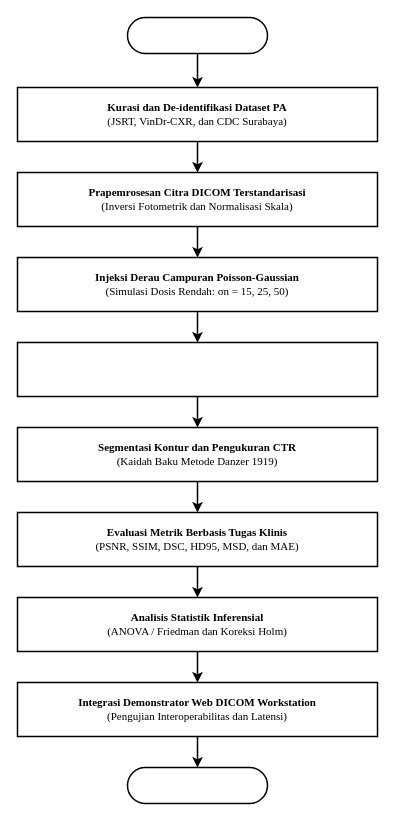
The diagram is 396 pixels wide and 822 high, and some of its shapes have lost their labels. Each missing label, with the centre of its shape:
"Mulai" goes at point (197, 35).
"Restorasi Citra Komparatif (Gaussian, Bilateral Filter, dan DnCNN)" goes at point (197, 369).
"Selesai" goes at point (197, 785).
